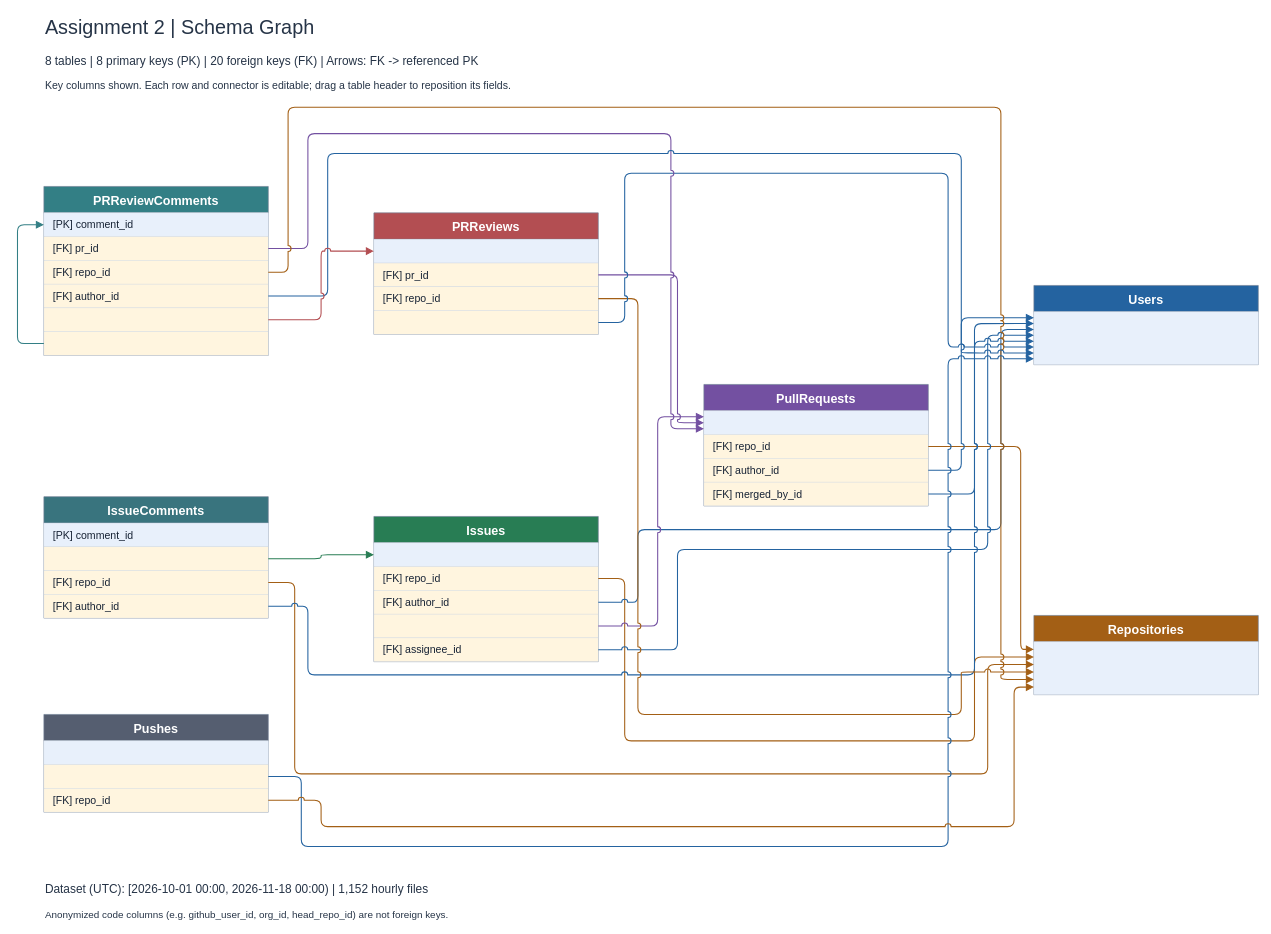
This 1271x934 diagram has some shape labels left out. The shapes that lost their labels are listed below. From the top down, each one's centre as x and y in pixels, then its label:
(x=485, y=251): [PK] review_id
(x=155, y=319): [FK] pull_request_review_id
(x=485, y=322): [FK] reviewer_id
(x=1145, y=338): [PK] user_id
(x=155, y=343): [FK] in_reply_to_id
(x=815, y=422): [PK] pr_id
(x=155, y=558): [FK] issue_id
(x=485, y=554): [PK] issue_id
(x=485, y=626): [FK] pull_request_id
(x=1145, y=668): [PK] repo_id
(x=155, y=752): [PK] push_id
(x=155, y=776): [FK] user_id
